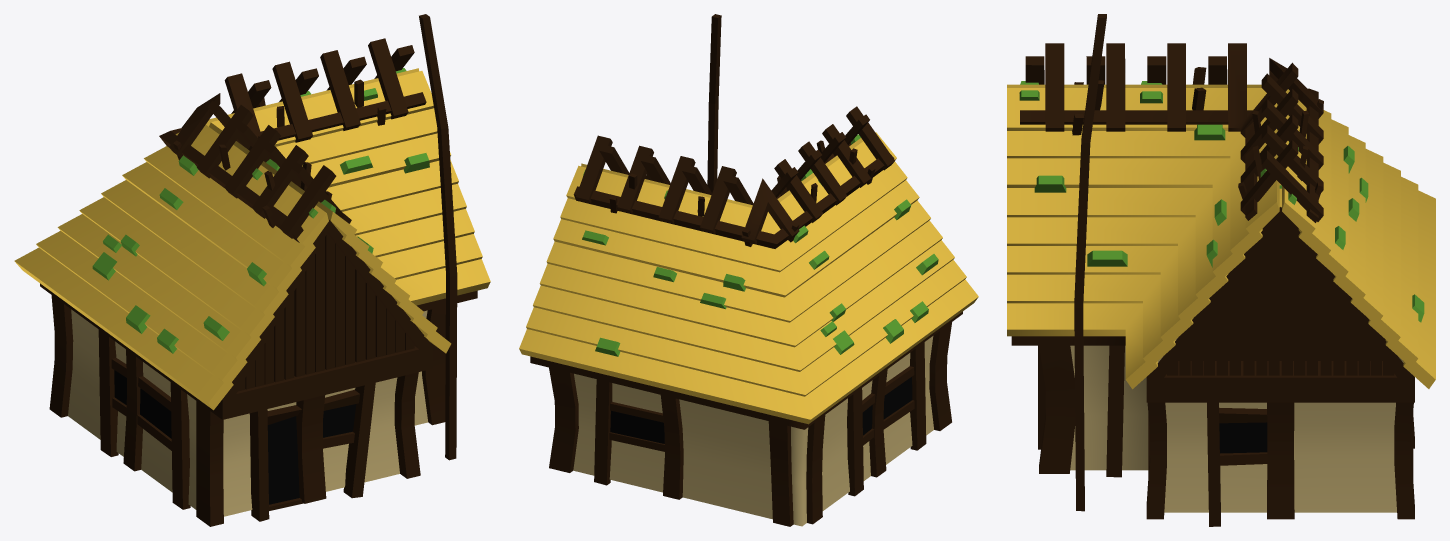
The model's file is PeasantHouseB.fbx.
3 renders of one model, left to right at view 1: azimuth 30°, elevation 25°; view 2: azimuth 150°, elevation 25°; view 3: azimuth 270°, elevation 25°, orthographic. The views are drawn at different scales.
Visible parts, largest first — view 1: PeasantHouseB; view 2: PeasantHouseB; view 3: PeasantHouseB.
Boxes of the visible parts, x1,y1,x2,y2 form: PeasantHouseB: (14, 14, 490, 526); PeasantHouseB: (519, 14, 978, 526); PeasantHouseB: (1007, 14, 1435, 526).
Bounding box in the file's own units: 401 × 499 × 401.
